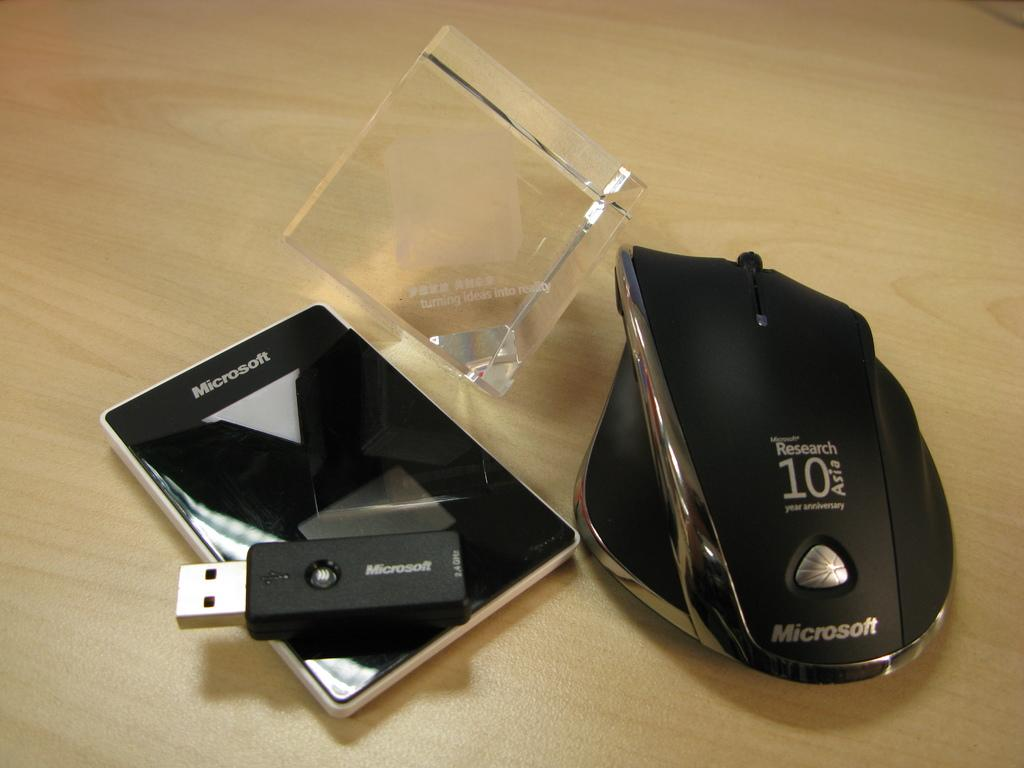Computer-mouse: (575, 243, 955, 687)
